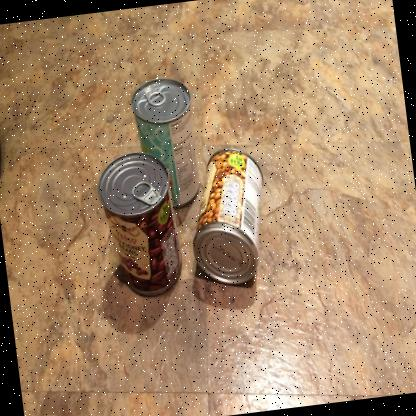Food Can: (97, 152, 182, 296), (193, 148, 263, 283), (131, 78, 199, 208)
Pop tab: (131, 181, 160, 204), (144, 86, 165, 105)
